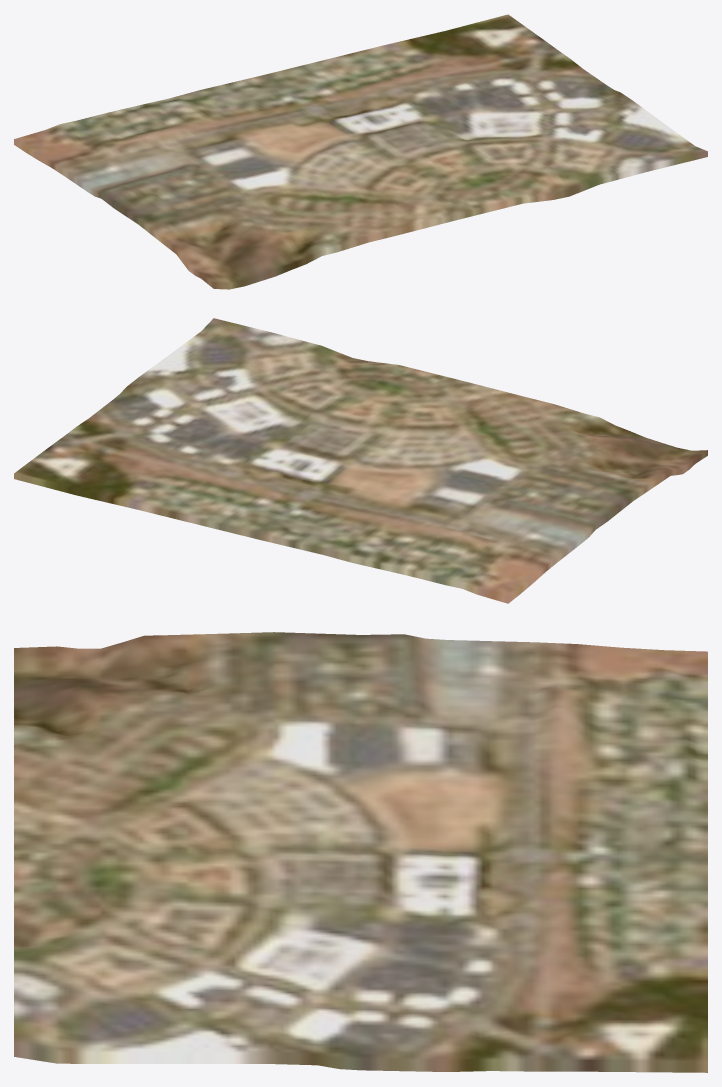
The model's file is terrain_r3_c3_lod2.glb.
3 views of the same model, one above another, from view 1: azimuth 30°, elevation 25°; view 2: azimuth 150°, elevation 25°; view 3: azimuth 270°, elevation 25° (orthographic). The views are drawn at different scales.
Visible parts, largest first — view 1: terrain_r3_c3_lod2; view 2: terrain_r3_c3_lod2; view 3: terrain_r3_c3_lod2.
Boxes of the visible parts, bbox=[...] form: terrain_r3_c3_lod2: bbox=[14, 14, 707, 289]; terrain_r3_c3_lod2: bbox=[14, 318, 707, 603]; terrain_r3_c3_lod2: bbox=[14, 632, 707, 1072].
Bounding box in the file's own units: 1125 × 47.93 × 787.
1 material, 1 textured.
